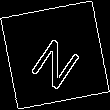N_NE: (24, 22, 86, 88)
